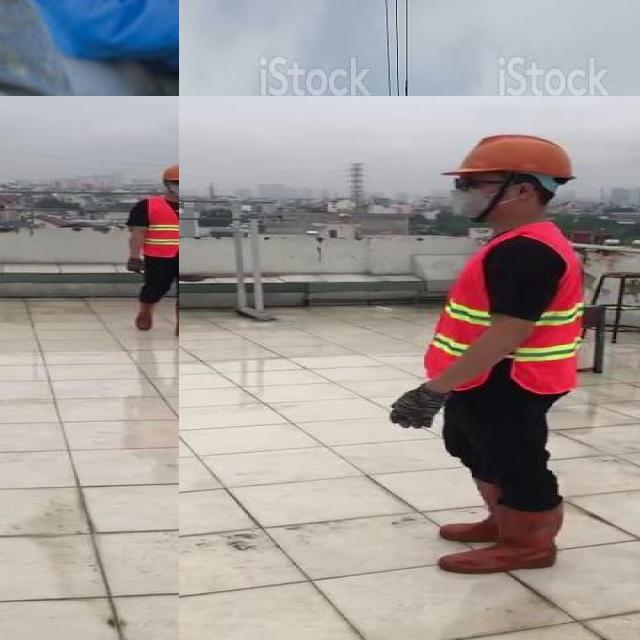boots: (442, 504, 561, 577), (434, 475, 540, 541), (132, 300, 154, 330)
face_mask: (443, 168, 503, 220), (168, 177, 179, 195)
glasses: (447, 172, 493, 194), (167, 178, 179, 187)
hand_glove: (388, 387, 446, 429), (126, 257, 147, 274)
head_helmet: (451, 131, 578, 184), (159, 162, 179, 181)
person: (375, 125, 601, 590), (125, 165, 179, 344)
vest: (420, 224, 584, 393), (143, 197, 179, 257)
